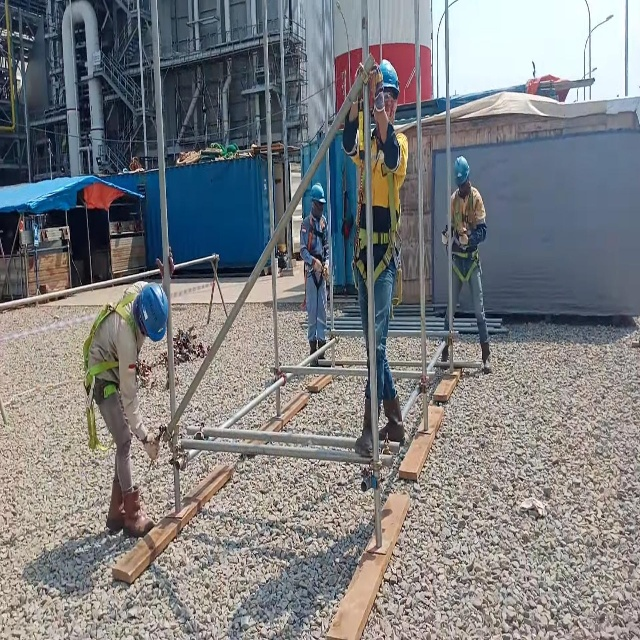Arnes_seguridad: (352, 125, 404, 323), (82, 283, 141, 455), (448, 183, 481, 284), (301, 211, 328, 307)
